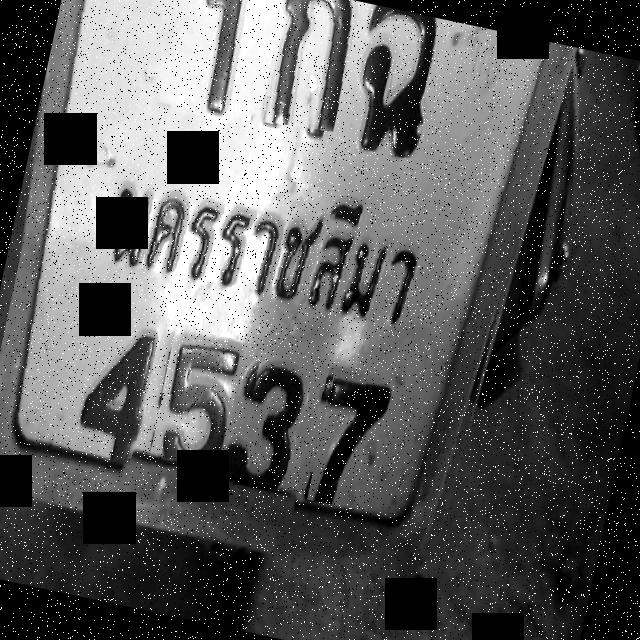letters: (336, 2, 464, 166), (66, 300, 170, 464), (254, 0, 360, 136), (233, 351, 330, 499), (148, 326, 246, 470), (306, 371, 394, 512), (179, 0, 272, 127)
license-plate: (0, 0, 560, 552)
province: (108, 148, 453, 356)
